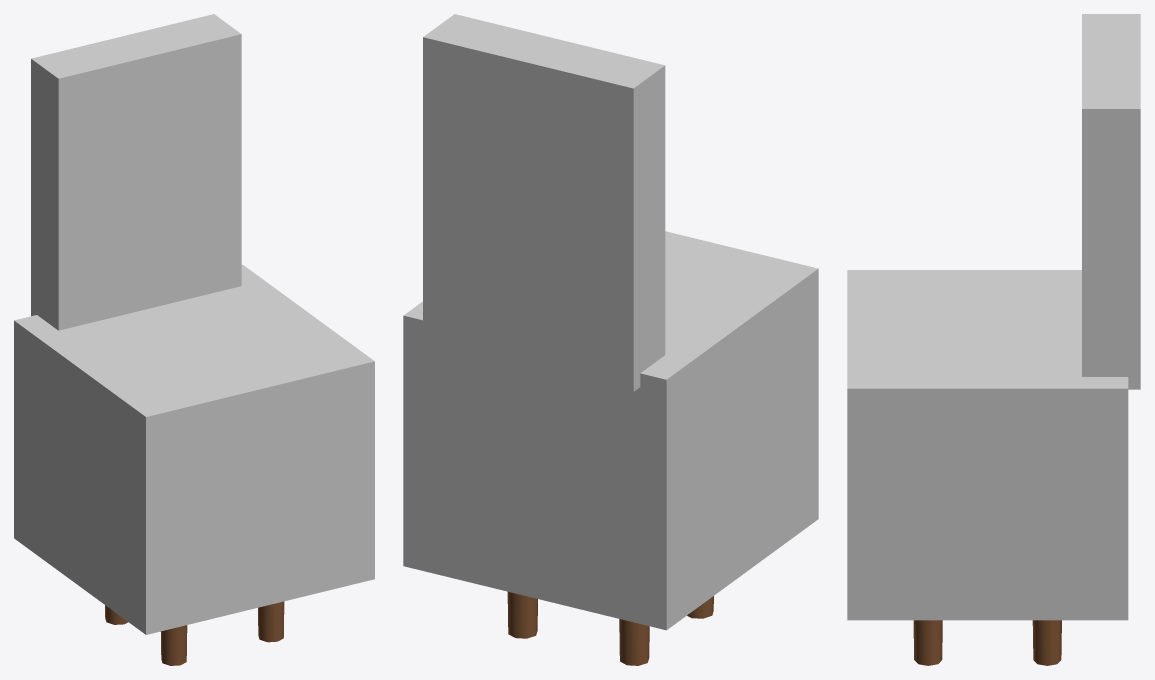
The model's file is Outdoor_Chair_A.fbx.
The picture shows the model from 3 angles, left to right: view 1: azimuth 30°, elevation 25°; view 2: azimuth 150°, elevation 25°; view 3: azimuth 270°, elevation 25°; orthographic projection. The views are drawn at different scales.
Parts seen in each view (by area): view 1: COL_Outdoor_Chair_A_0, COL_Outdoor_Chair_A_1, Outdoor_Chair_A_Leg; view 2: COL_Outdoor_Chair_A_0, COL_Outdoor_Chair_A_1, Outdoor_Chair_A_Leg; view 3: COL_Outdoor_Chair_A_0, COL_Outdoor_Chair_A_1, Outdoor_Chair_A_Leg.
Part boxes in pixels (bbox=[...]): COL_Outdoor_Chair_A_0: bbox=[14, 264, 374, 634]; COL_Outdoor_Chair_A_1: bbox=[31, 14, 241, 330]; Outdoor_Chair_A_Leg: bbox=[105, 601, 284, 665]; COL_Outdoor_Chair_A_0: bbox=[403, 231, 818, 630]; COL_Outdoor_Chair_A_1: bbox=[423, 14, 665, 391]; Outdoor_Chair_A_Leg: bbox=[507, 592, 713, 665]; COL_Outdoor_Chair_A_0: bbox=[847, 270, 1128, 620]; COL_Outdoor_Chair_A_1: bbox=[1082, 14, 1140, 389]; Outdoor_Chair_A_Leg: bbox=[913, 620, 1061, 665].
Size of the model in its own units: 0.5 by 1.13 by 0.5221.
